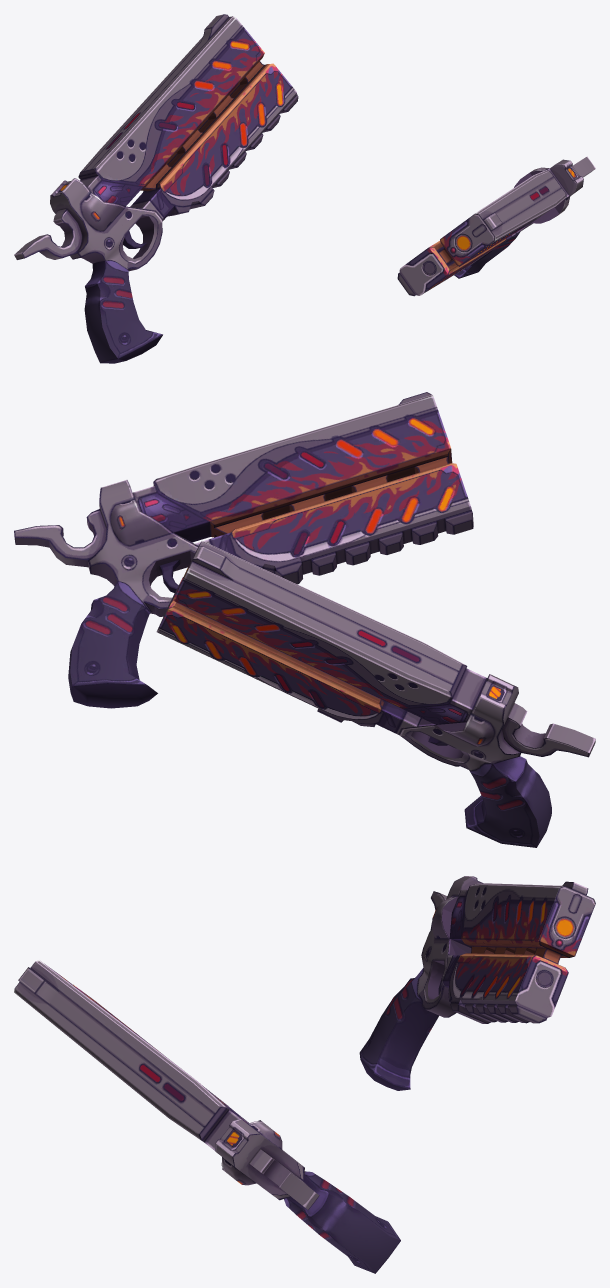
Rendered from Weapon_Pistol_K3_06_3.fbx.
The picture shows the model from 3 angles, top to bottom: view 1: azimuth 30°, elevation 25°; view 2: azimuth 150°, elevation 25°; view 3: azimuth 270°, elevation 25°; orthographic projection. The views are drawn at different scales.
Parts seen in each view (by area): view 1: RightPistol, LeftPistol; view 2: LeftPistol, RightPistol; view 3: RightPistol, LeftPistol.
Boxes of the visible parts, left/top/right/bottom form: RightPistol: left=14, top=14, right=298, bottom=363; LeftPistol: left=397, top=156, right=595, bottom=296; LeftPistol: left=14, top=392, right=473, bottom=708; RightPistol: left=156, top=540, right=595, bottom=847; RightPistol: left=359, top=876, right=595, bottom=1090; LeftPistol: left=14, top=960, right=400, bottom=1273.
Size of the model in its own units: 0.5508 by 0.2511 by 0.4343.
Materials: 1 (1 with a texture image).
